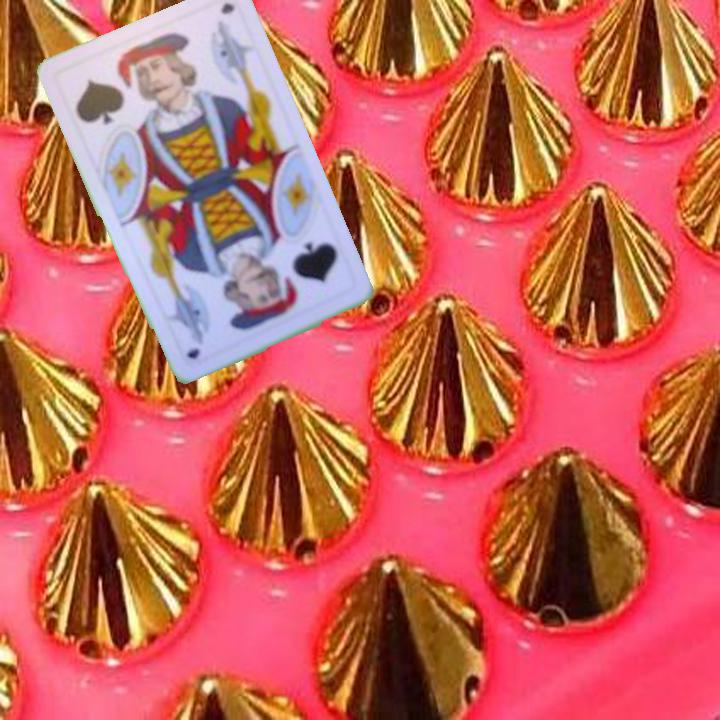s_j.png: (233, 215, 357, 331), (55, 34, 179, 150)
